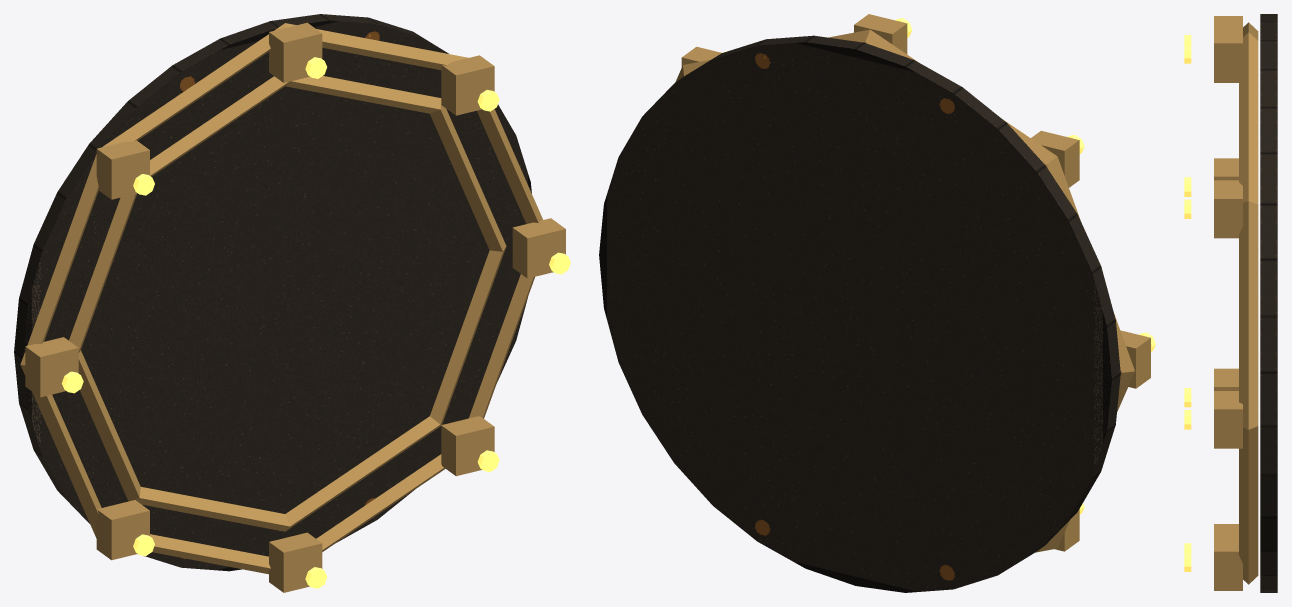
The model's file is gate-low.glb.
3 renders of one model, left to right at view 1: azimuth 30°, elevation 25°; view 2: azimuth 150°, elevation 25°; view 3: azimuth 270°, elevation 25°, orthographic. The views are drawn at different scales.
Visible parts, largest first — view 1: gate-root.003 / Riveted iron.011, gate-root.003 / Machined brass.011, gate-root.003 / Amber lamps.011; view 2: gate-root.003 / Riveted iron.011, gate-root.003 / Machined brass.011; view 3: gate-root.003 / Machined brass.011, gate-root.003 / Riveted iron.011, gate-root.003 / Amber lamps.011.
Boxes of the visible parts, bbox=[...] form: gate-root.003 / Riveted iron.011: bbox=[14, 14, 531, 571]; gate-root.003 / Machined brass.011: bbox=[20, 22, 565, 592]; gate-root.003 / Amber lamps.011: bbox=[61, 57, 570, 588]; gate-root.003 / Riveted iron.011: bbox=[599, 35, 1120, 592]; gate-root.003 / Machined brass.011: bbox=[675, 14, 1150, 552]; gate-root.003 / Machined brass.011: bbox=[1214, 16, 1258, 590]; gate-root.003 / Riveted iron.011: bbox=[1260, 14, 1277, 592]; gate-root.003 / Amber lamps.011: bbox=[1184, 35, 1191, 571].
Bounding box in the file's own units: 2.07 × 2.07 × 0.322.
3 materials, 1 textured.
